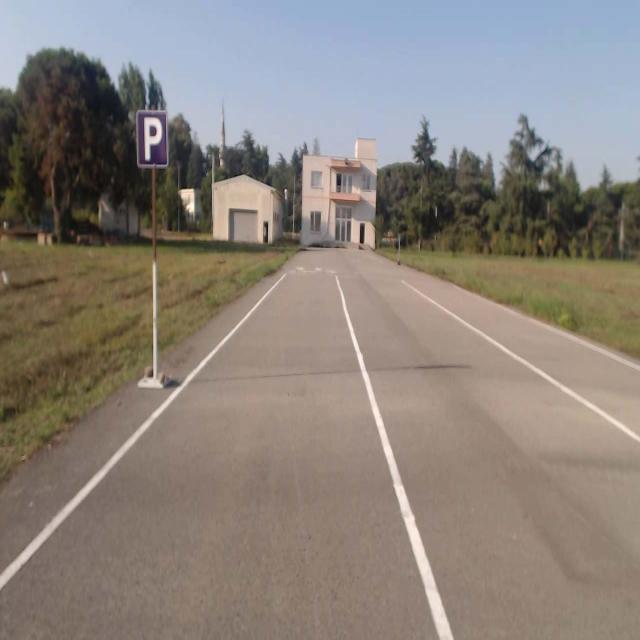park: (136, 111, 168, 166)
